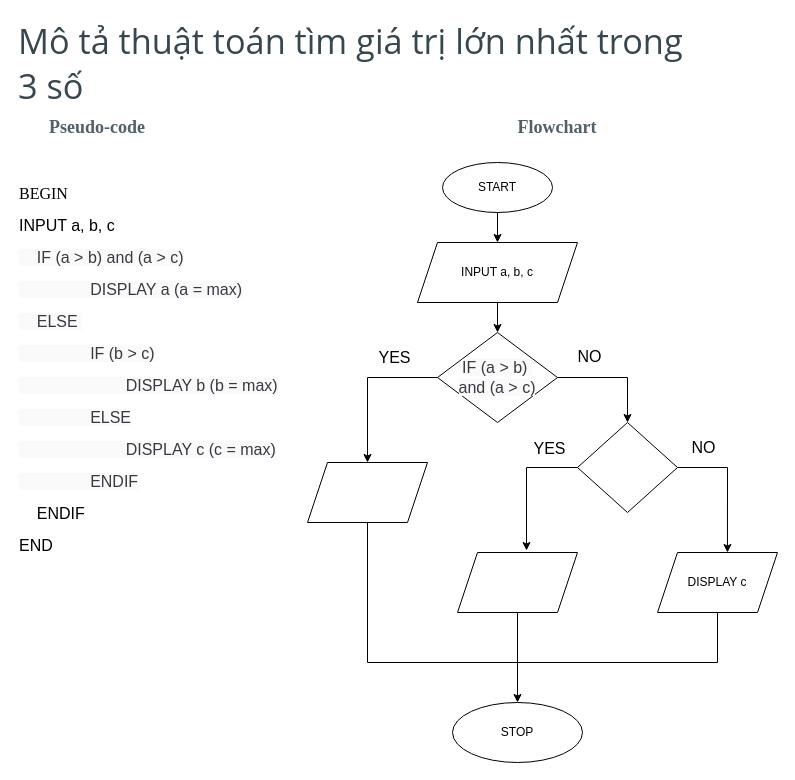
Image size: 795x780. Some labels were removed from this diagram. Each missing label, with the box of its shape:
DISPLAY a: (306, 462, 428, 522)
DISPLAY b: (456, 552, 578, 612)
IF (b > c): (576, 422, 678, 512)
